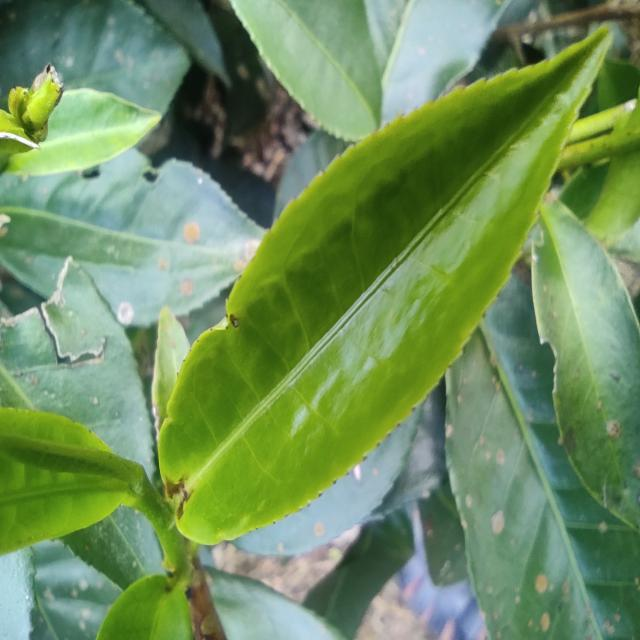Category C(4-7 days): (141, 9, 623, 572)
